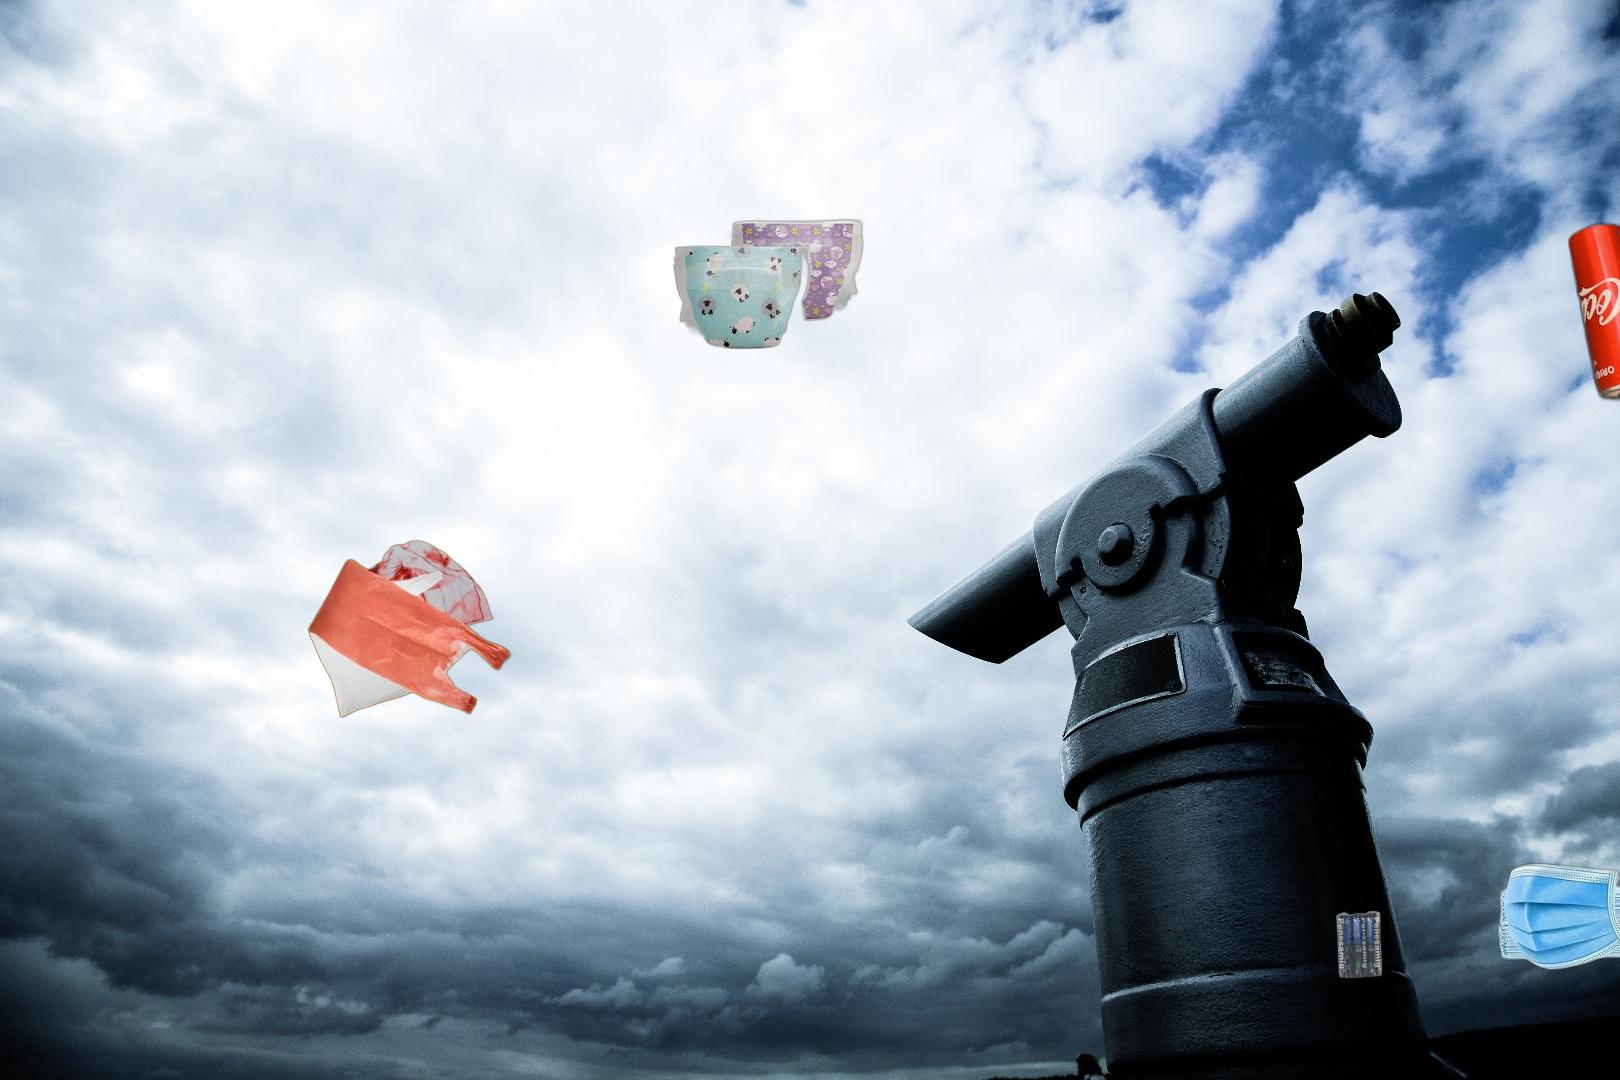battery: (1333, 908, 1385, 981)
metal-cans: (1565, 217, 1620, 406)
plastic-bag: (306, 538, 513, 720)
trash: (671, 215, 873, 352), (1495, 850, 1620, 973)
